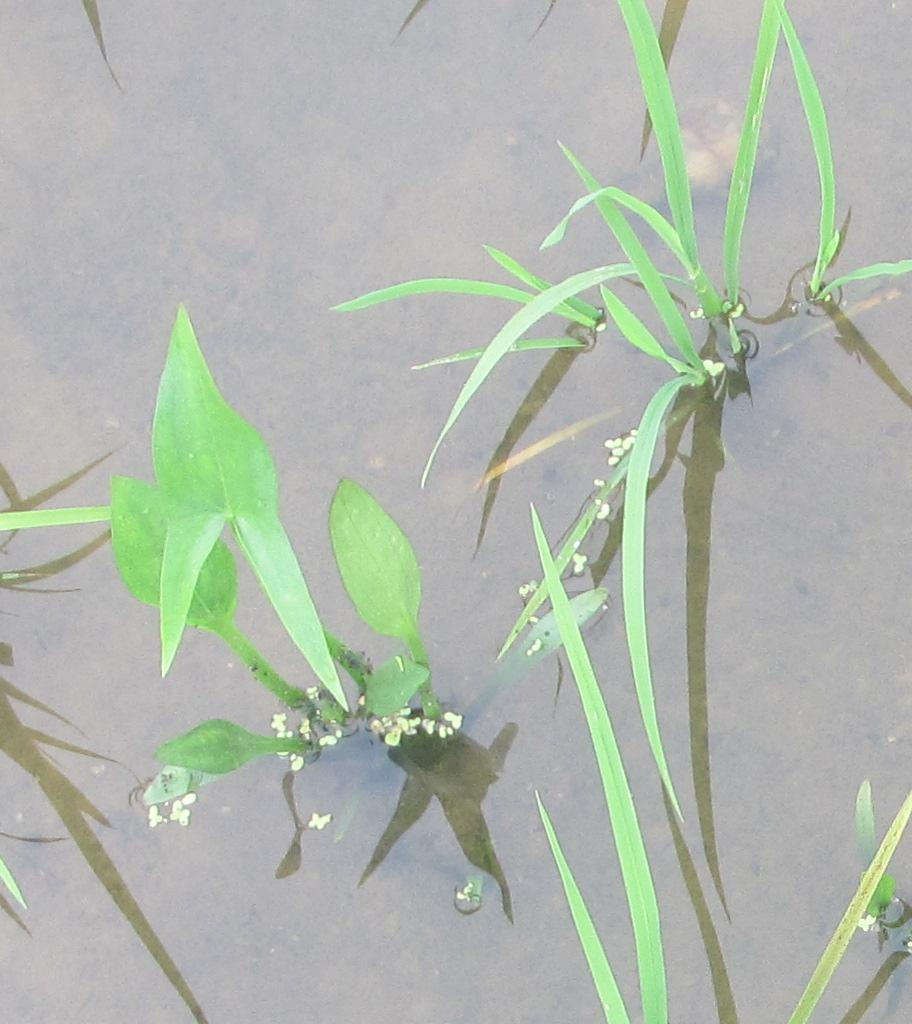Weed: (139, 292, 458, 764)
